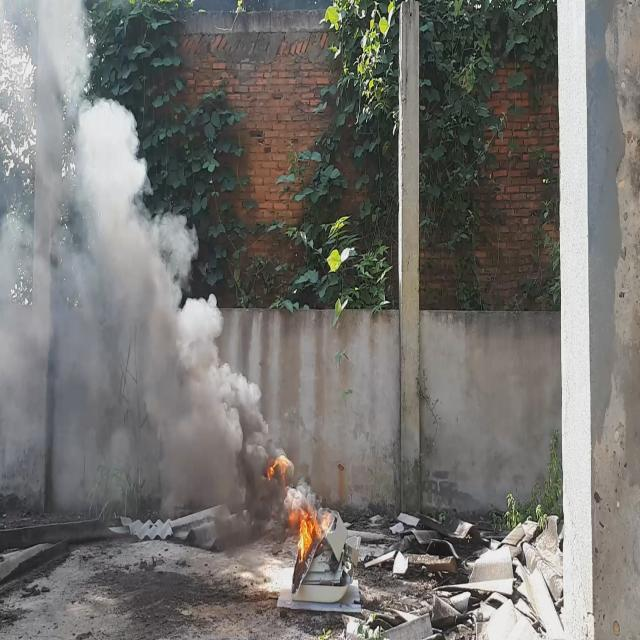Fire: (266, 450, 330, 565)
Smoke: (0, 0, 321, 538)
